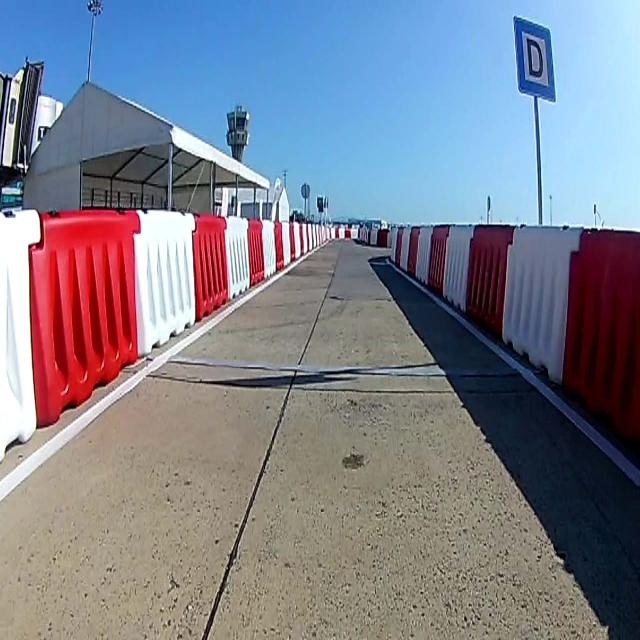durak: (512, 16, 556, 98)
